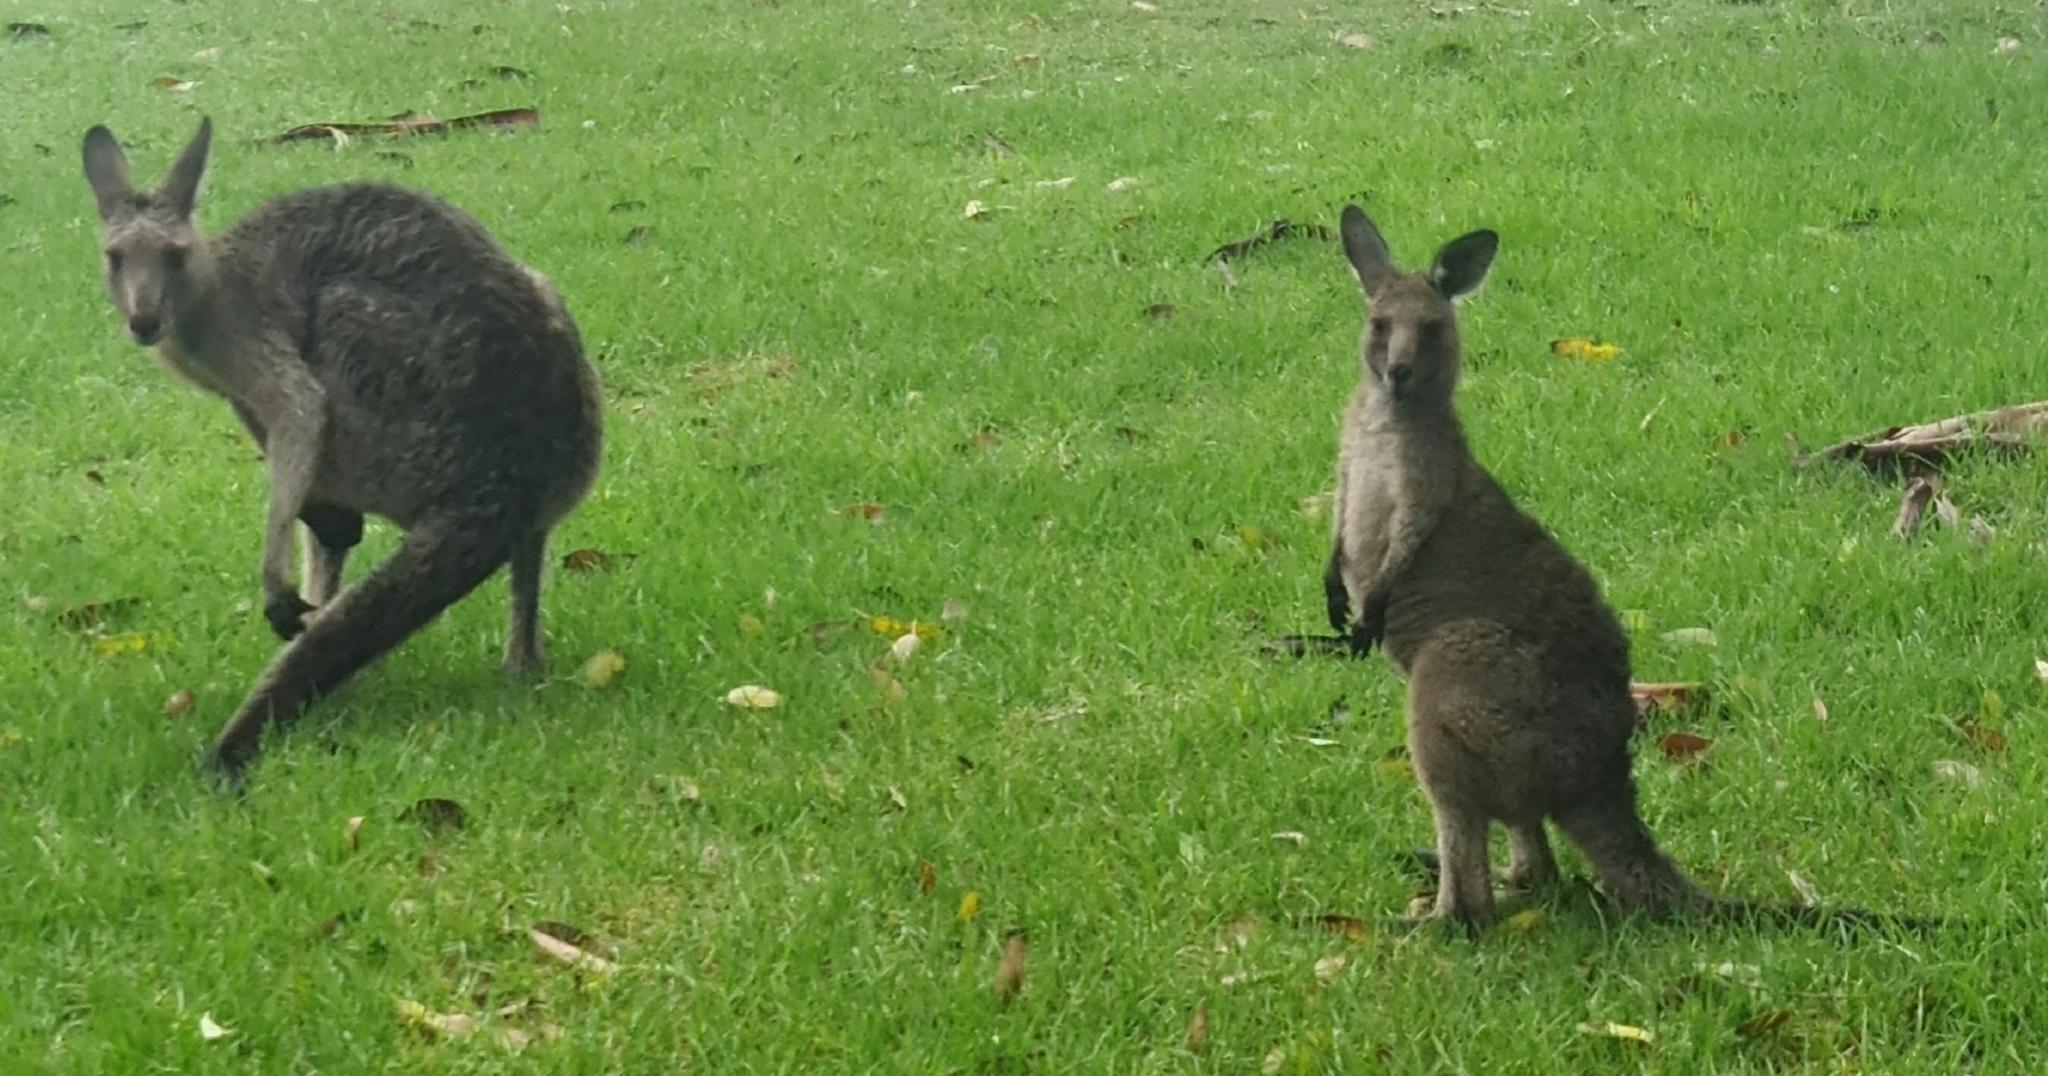Eastern grey kangaroo: (1277, 188, 2037, 954), (79, 108, 620, 842)
